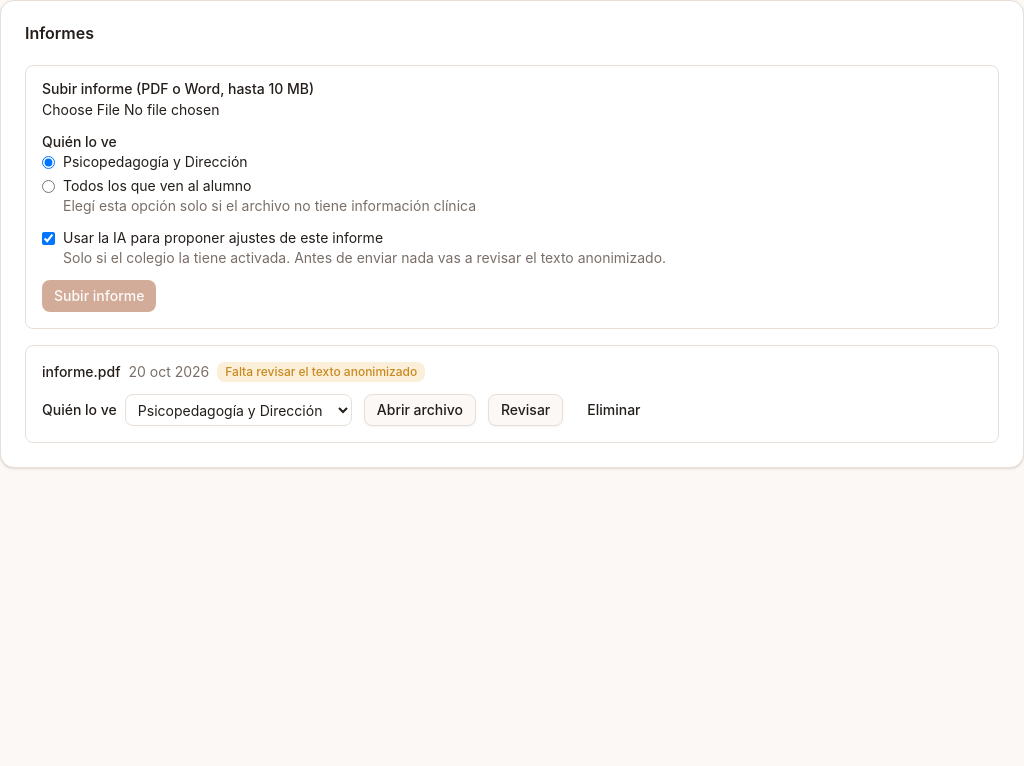
Test: StudentReportsSection › keeps the list badge in step with the status the review panel loads
Expected: the text "Falta revisar el texto anonimizado" is shown, [217,362,425,382]
What coordinates should you click on to do the following:
click the button "Revisar"
I would click on:
 (526, 410)
Its box is [488,394,563,426].
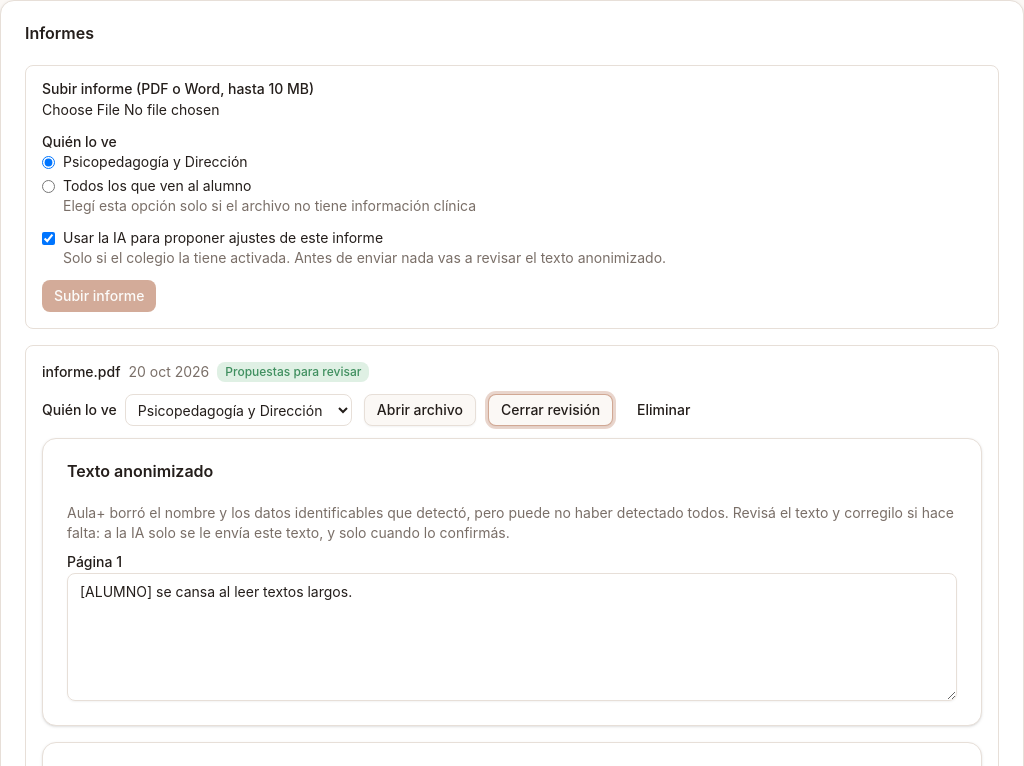
Now the text "Propuestas para revisar" is shown, box [217,362,370,382]
Now the text "Falta revisar el texto anonimizado" is gone
